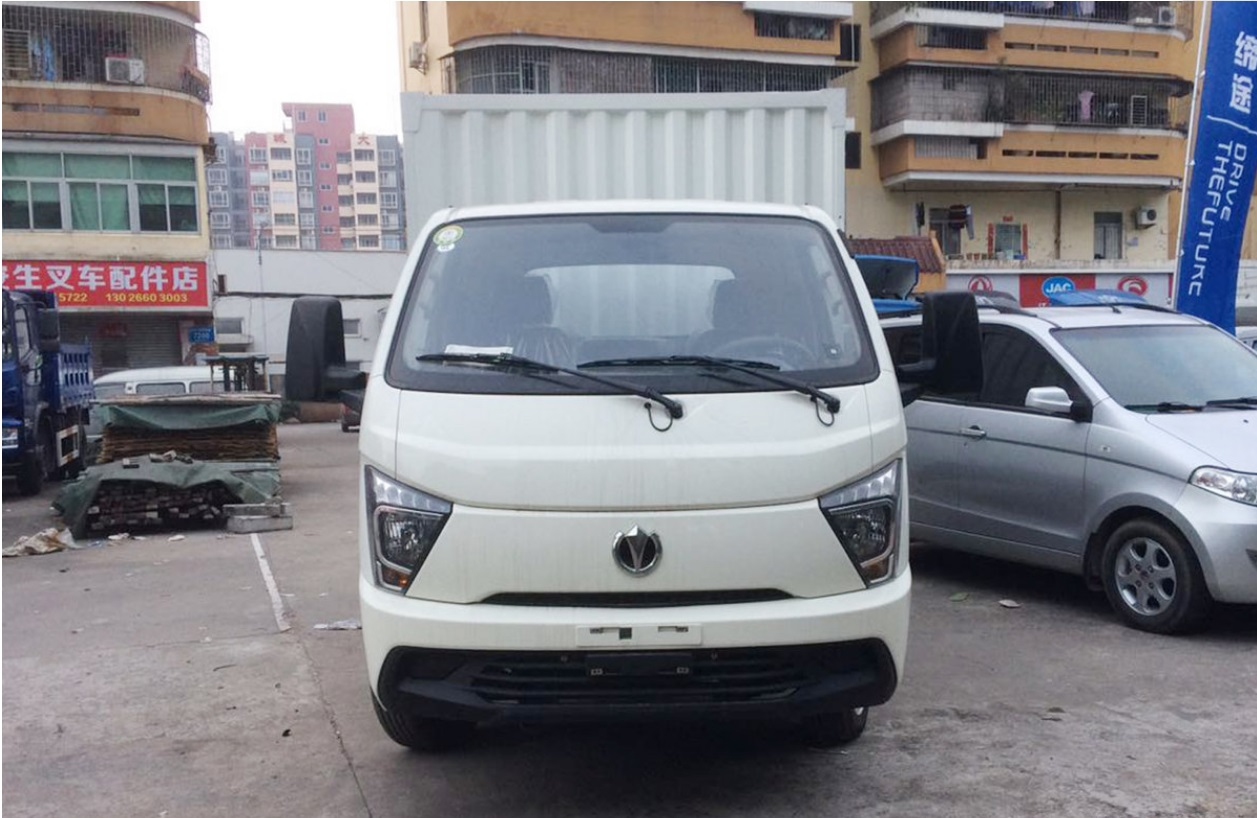truck: (350, 200, 915, 756)
